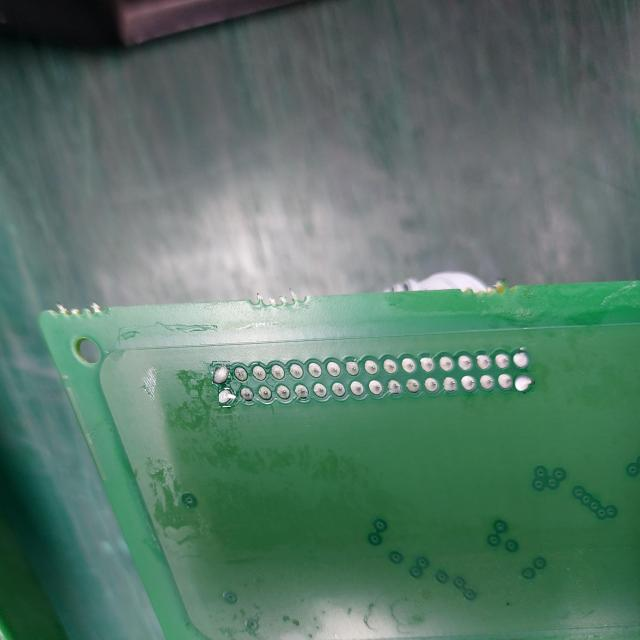slug: (514, 371, 535, 393), (212, 361, 230, 384), (218, 389, 236, 407)
